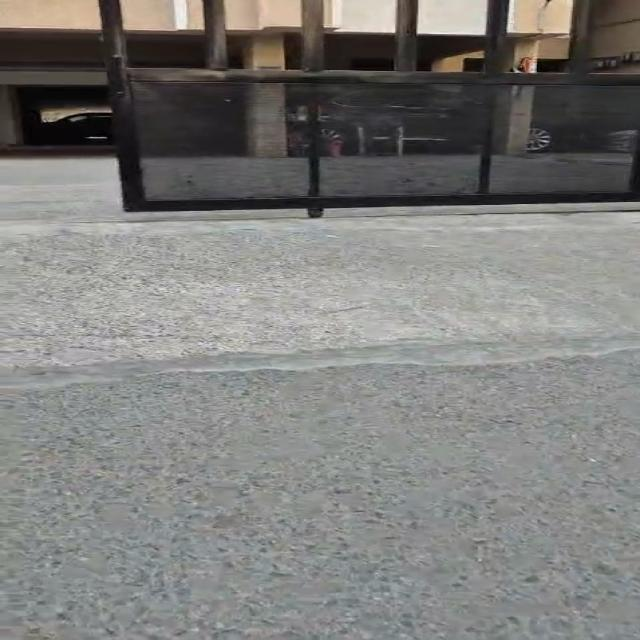step: (93, 304, 640, 410)
